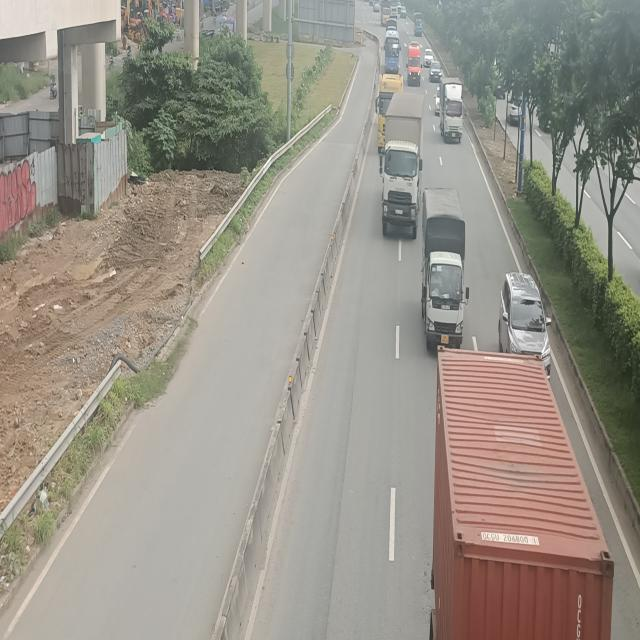car: (498, 270, 552, 379), (430, 60, 441, 81), (424, 48, 434, 65)
coach: (383, 30, 401, 72)
container: (430, 345, 614, 640), (376, 74, 403, 151)
truck: (422, 185, 468, 347), (380, 85, 423, 237), (440, 78, 462, 142)
van: (406, 42, 422, 84)
